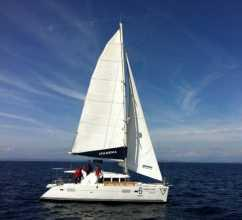fanchuan: (38, 24, 175, 203)
